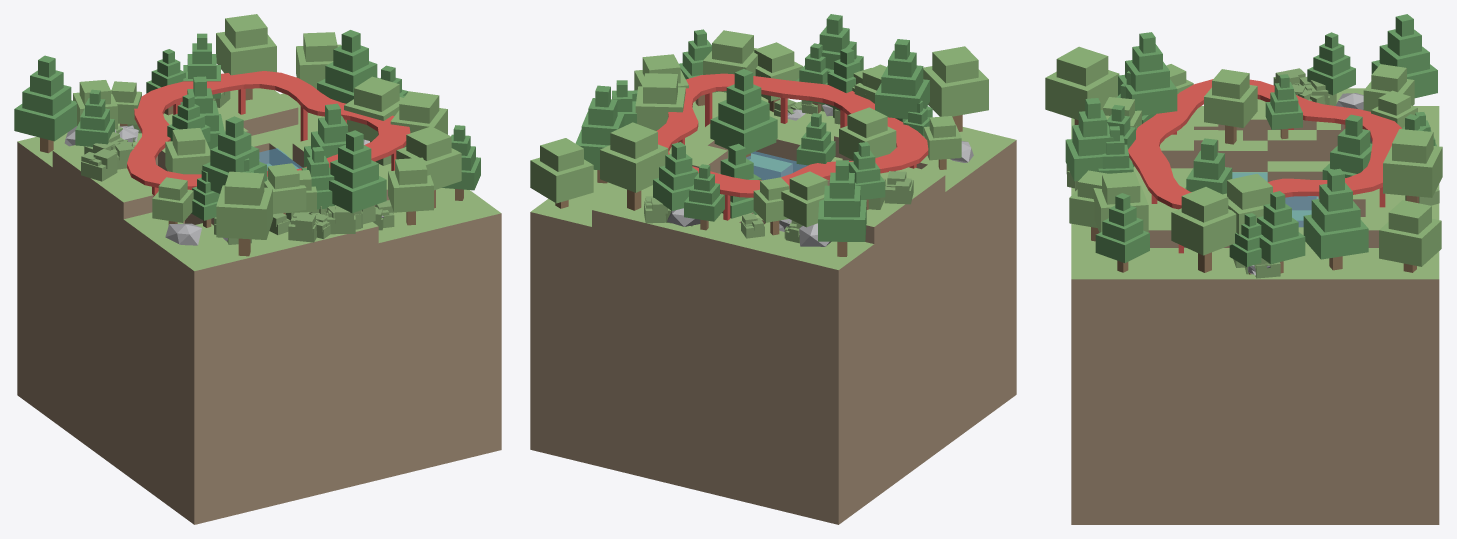
The model's file is block_12_wetlands_100.glb.
3 views of the same model, side by side, from view 1: azimuth 30°, elevation 25°; view 2: azimuth 150°, elevation 25°; view 3: azimuth 270°, elevation 25° (orthographic). The views are drawn at different scales.
Parts seen in each view (by area): view 1: Patch_LowerLeft_b11_WL, WL_Walk_12, WL_Clu_12_039, WL_Clu_12_017, WL_Clu_12_057, WL_Clu_12_064, WL_Clu_12_042, WL_Clu_12_019, WL_Clu_12_050, WL_Clu_12_083, WL_Clu_12_035, WL_Clu_12_043 (+19 smaller); view 2: Patch_LowerLeft_b11_WL, WL_Walk_12, WL_Clu_12_040, WL_Clu_12_017, WL_Clu_12_064, WL_Clu_12_047, WL_Clu_12_039, WL_Clu_12_019, WL_Clu_12_042, WL_Clu_12_035, WL_Clu_12_043, WL_Clu_12_065 (+18 smaller); view 3: Patch_LowerLeft_b11_WL, WL_Walk_12, WL_Clu_12_042, WL_Clu_12_017, WL_Clu_12_032, WL_Clu_12_064, WL_Clu_12_047, WL_Clu_12_019, WL_Clu_12_043, WL_Clu_12_039, WL_Clu_12_052, WL_Clu_12_057 (+15 smaller).
Part boxes in pixels (<box>): Patch_LowerLeft_b11_WL: <box>17,88,501,524</box>; WL_Walk_12: <box>127,71,410,196</box>; WL_Clu_12_039: <box>14,55,76,153</box>; WL_Clu_12_017: <box>216,171,272,256</box>; WL_Clu_12_057: <box>329,130,386,213</box>; WL_Clu_12_064: <box>216,14,276,100</box>; WL_Clu_12_042: <box>317,30,379,103</box>; WL_Clu_12_019: <box>202,116,266,193</box>; WL_Clu_12_050: <box>396,126,461,208</box>; WL_Clu_12_083: <box>388,157,433,225</box>; WL_Clu_12_035: <box>344,76,403,142</box>; WL_Clu_12_043: <box>165,128,210,174</box>; Patch_LowerLeft_b11_WL: <box>530,91,1016,524</box>; WL_Walk_12: <box>656,73,928,220</box>; WL_Clu_12_040: <box>710,69,777,159</box>; WL_Clu_12_017: <box>923,46,988,131</box>; WL_Clu_12_064: <box>600,122,668,210</box>; WL_Clu_12_047: <box>530,138,593,208</box>; WL_Clu_12_039: <box>818,160,866,256</box>; WL_Clu_12_019: <box>875,39,929,119</box>; WL_Clu_12_042: <box>575,85,624,183</box>; WL_Clu_12_035: <box>635,73,685,130</box>; WL_Clu_12_043: <box>839,107,896,160</box>; WL_Clu_12_065: <box>653,142,698,210</box>; Patch_LowerLeft_b11_WL: <box>1071,88,1439,524</box>; WL_Walk_12: <box>1128,79,1401,253</box>; WL_Clu_12_042: <box>1303,168,1368,270</box>; WL_Clu_12_017: <box>1045,46,1119,124</box>; WL_Clu_12_032: <box>1171,187,1236,272</box>; WL_Clu_12_064: <box>1383,129,1442,203</box>; WL_Clu_12_047: <box>1379,200,1441,272</box>; WL_Clu_12_019: <box>1118,32,1177,115</box>; WL_Clu_12_043: <box>1204,69,1257,144</box>; WL_Clu_12_039: <box>1371,14,1437,98</box>; WL_Clu_12_052: <box>1095,193,1149,272</box>; WL_Clu_12_057: <box>1065,98,1113,181</box>.
Size of the model in its own units: 10.26 by 10.62 by 10.25.
